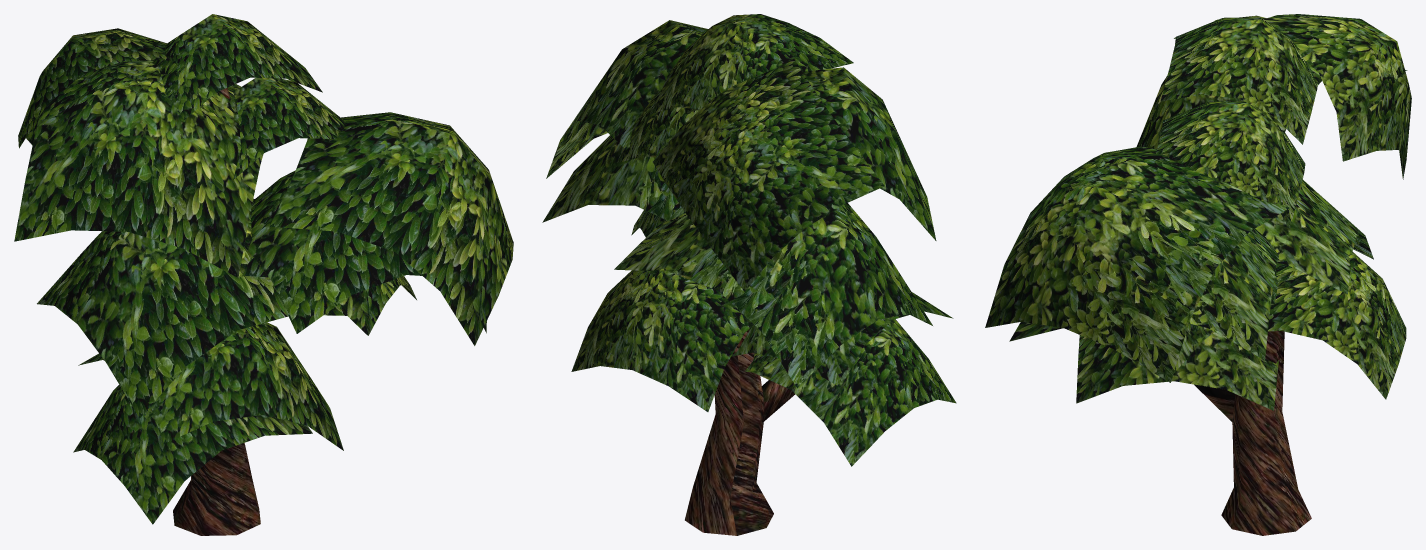
The model's file is tree.obj.
3 renders of one model, left to right at view 1: azimuth 30°, elevation 25°; view 2: azimuth 150°, elevation 25°; view 3: azimuth 270°, elevation 25°, orthographic. The views are drawn at different scales.
Visible parts, largest first — view 1: leaves_Plane_011, leaves_Plane_11, trunk_Cylinder; view 2: leaves_Plane_11, leaves_Plane_011, trunk_Cylinder; view 3: leaves_Plane_011, leaves_Plane_11, trunk_Cylinder.
Boxes of the visible parts, box(x1,y1,x2,y2) form: leaves_Plane_011: box(14, 14, 513, 524); leaves_Plane_11: box(36, 14, 512, 459); trunk_Cylinder: box(173, 87, 260, 535); leaves_Plane_11: box(546, 14, 913, 466); leaves_Plane_011: box(542, 14, 956, 407); trunk_Cylinder: box(685, 329, 795, 535); leaves_Plane_011: box(1009, 17, 1408, 410); leaves_Plane_11: box(985, 14, 1411, 403); trunk_Cylinder: box(1194, 331, 1311, 535).
Bounding box in the file's own units: 6.72 × 7.29 × 5.72.
2 materials, 2 textured.
